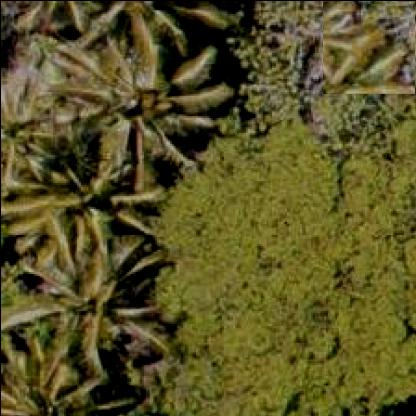coconut tree: (1, 1, 252, 415), (322, 0, 415, 94)
